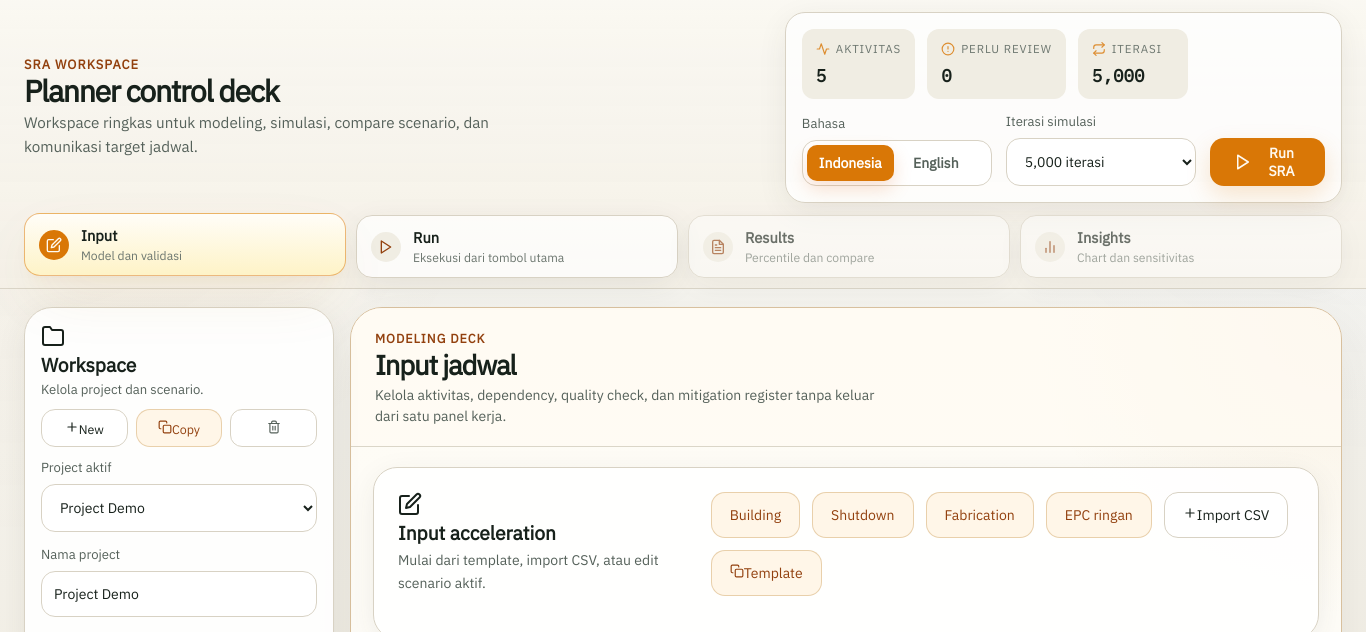
Test case: App workflow redesign › runs the simulation, activates results, and updates the hash
Click the button "Run SRA".
click(1267, 162)  # box [1210, 138, 1325, 186]
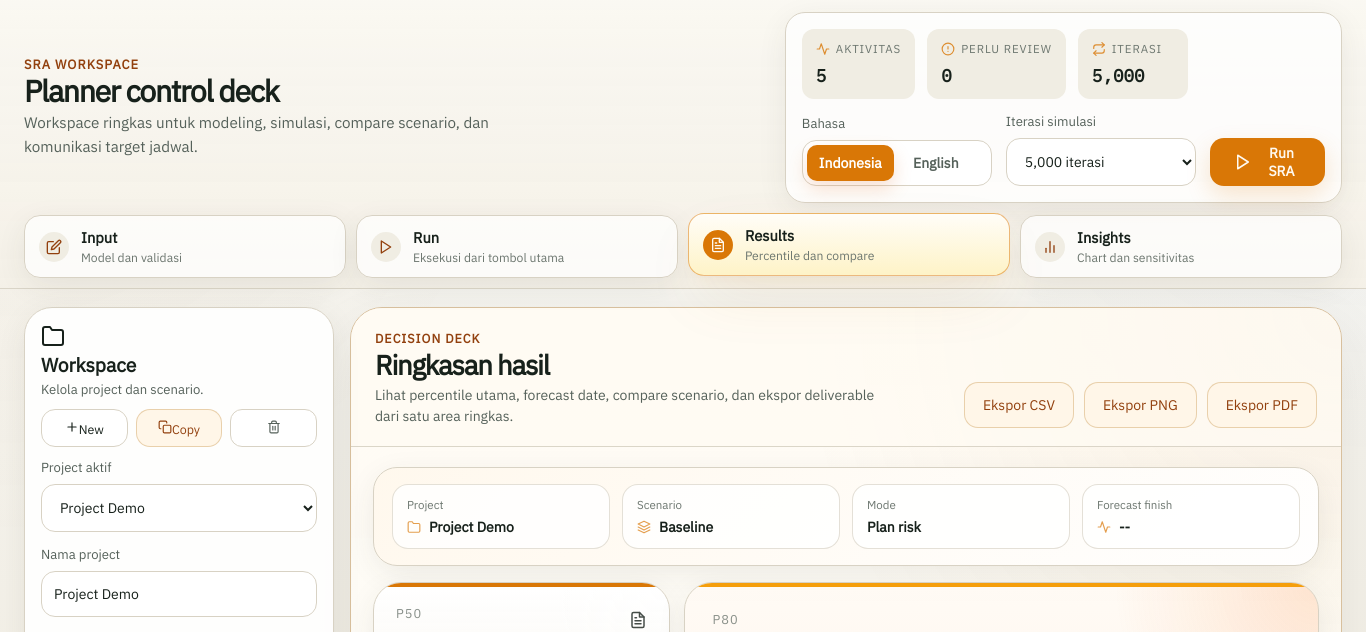
Check: the heading "Ringkasan hasil" is shown, box [375, 347, 549, 383]
Check: the button "Results Percentile dan compare" is enabled, box [688, 213, 1010, 276]
Check: the button "Ekspor CSV" is shown, box [964, 382, 1074, 428]
